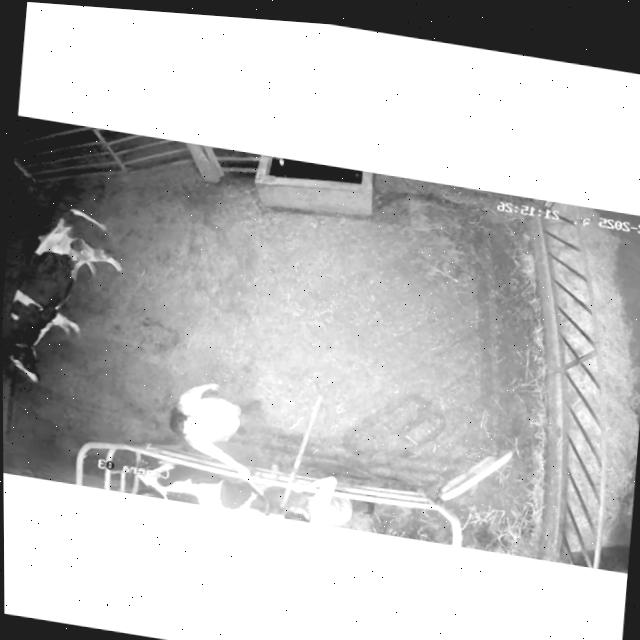stand: (1, 191, 124, 401)
